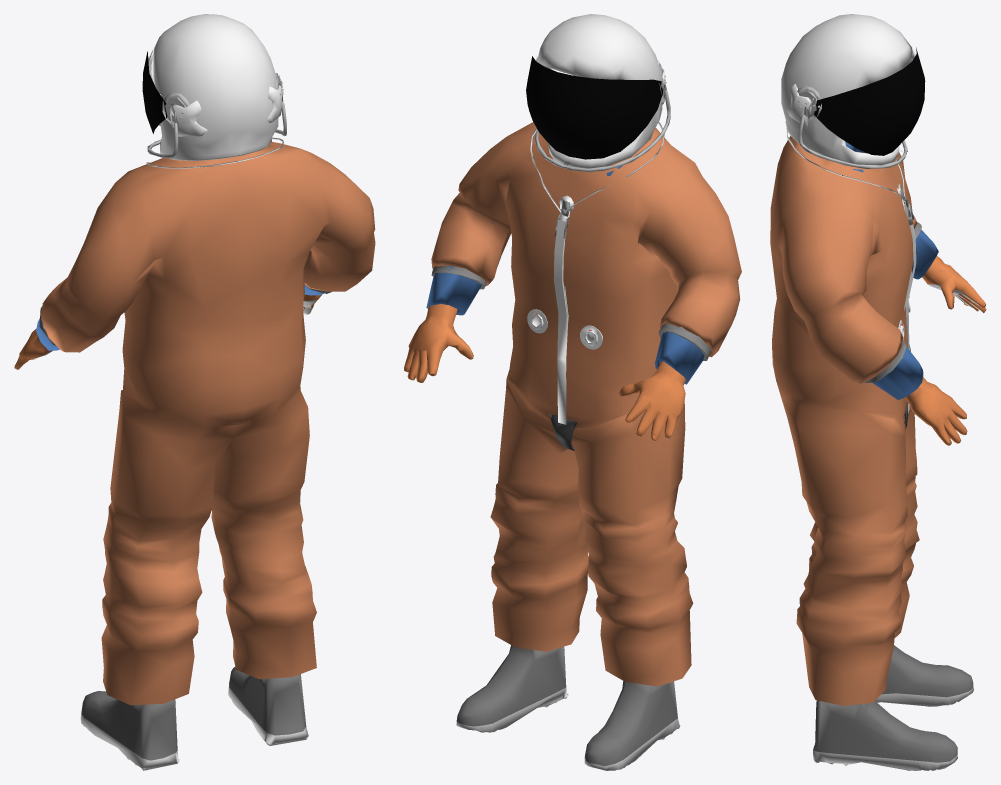
Rendered from astronaut.gltf.
3 views of the same model, side by side, from view 1: azimuth 30°, elevation 25°; view 2: azimuth 150°, elevation 25°; view 3: azimuth 270°, elevation 25° (orthographic). The views are drawn at different scales.
Visible parts, largest first — view 1: acesjustforroomshow:ACES_INTERIOR_OBJ_polySurface1 acesjust.; view 2: acesjustforroomshow:ACES_INTERIOR_OBJ_polySurface1 acesjust.; view 3: acesjustforroomshow:ACES_INTERIOR_OBJ_polySurface1 acesjust..
Boxes of the visible parts, x1=… form: acesjustforroomshow:ACES_INTERIOR_OBJ_polySurface1 acesjust.: x1=14, y1=14, x2=375, y2=770; acesjustforroomshow:ACES_INTERIOR_OBJ_polySurface1 acesjust.: x1=404, y1=14, x2=741, y2=770; acesjustforroomshow:ACES_INTERIOR_OBJ_polySurface1 acesjust.: x1=770, y1=14, x2=986, y2=770.
Size of the model in its own units: 0.8855 by 2 by 0.5526.
